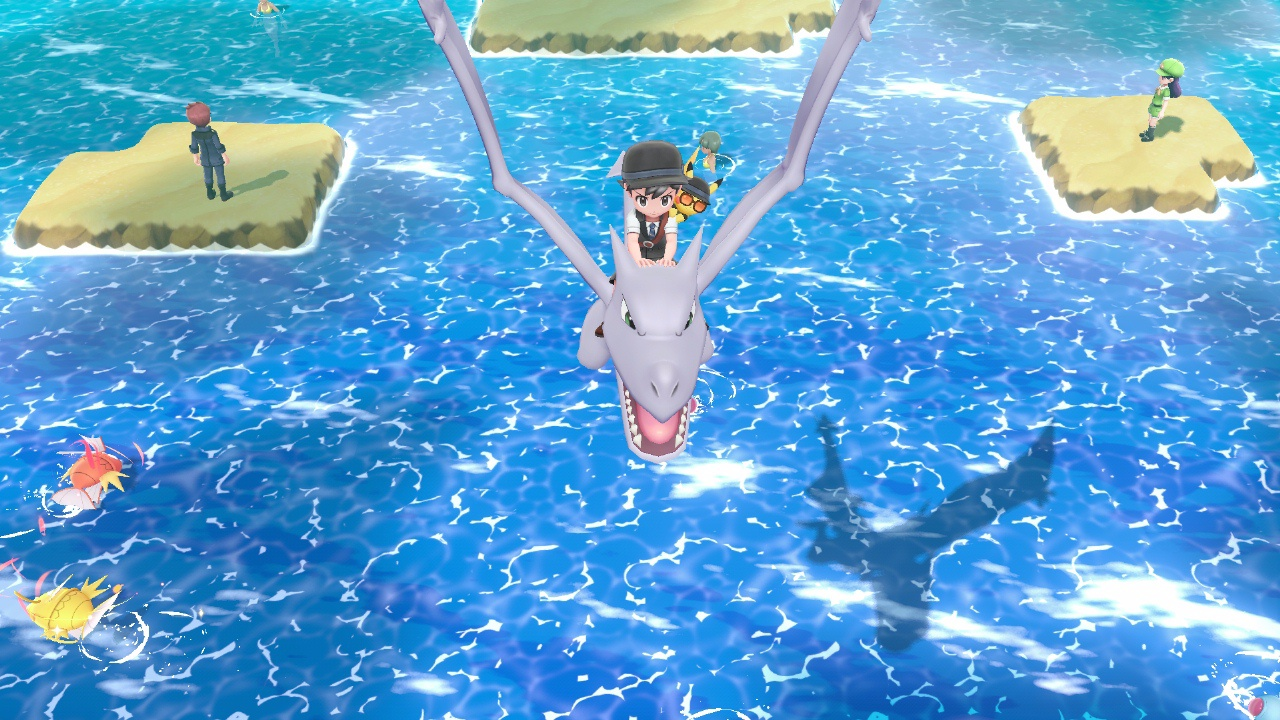Golden: (17, 569, 118, 647)
Red: (40, 432, 129, 517)
